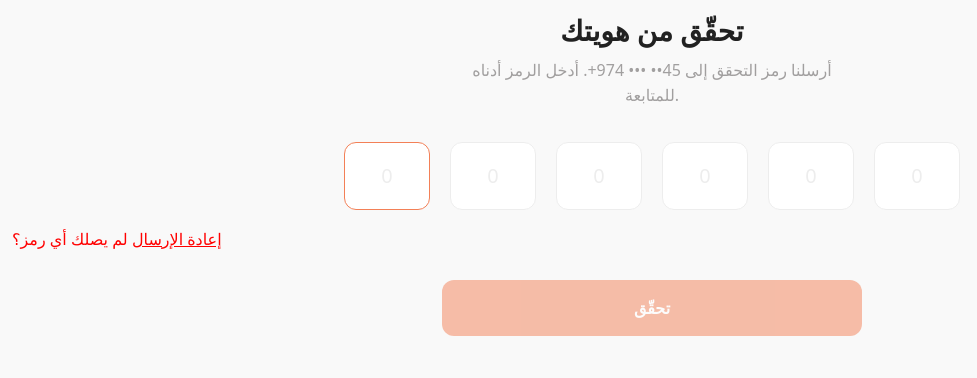
DeviceVerificationStep › shows why a resend failed and keeps the user on the step
Click the button "إعادة الإرسال".
click(177, 239)  # box [132,228,222,250]
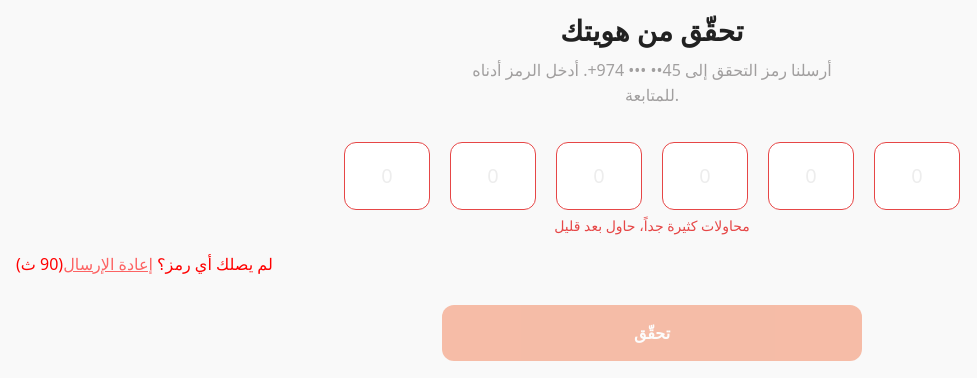
Expected: the text "محاولات كثيرة جداً، حاول بعد قليل" is shown, [554,216,750,235]
Expected: the button "إعادة الإرسال" is disabled, [63,253,153,275]
